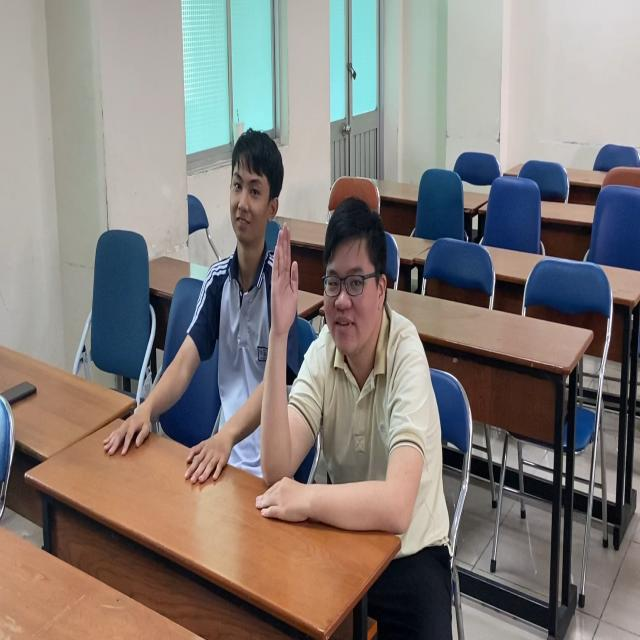raise_hand: (266, 184, 432, 555)
